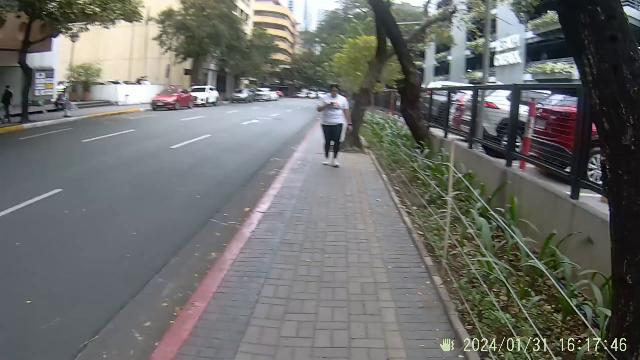tree: (344, 38, 394, 150), (14, 26, 40, 124)
